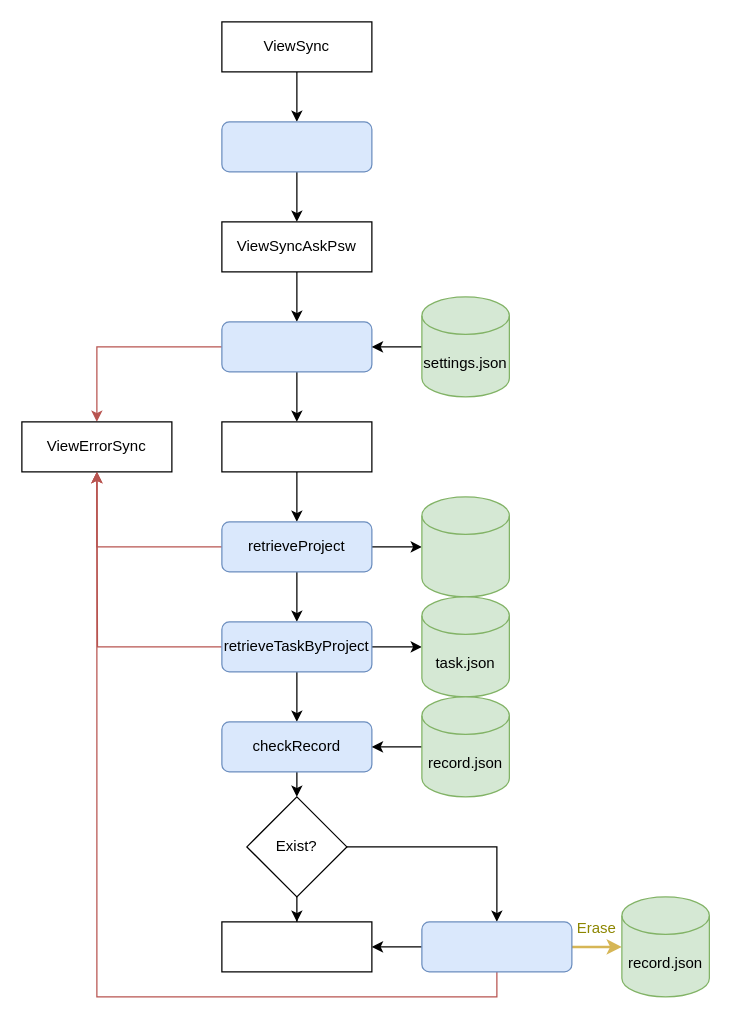
This 731x1029 diagram has some shape labels left out. Here are the shapes that lost their labels. From the top down, the centre of each, then its label:
At pixel 296 146: "askSync".
At pixel 296 346: "launchSync".
At pixel 296 446: "ViewOnGoingSync".
At pixel 465 546: "project.json".
At pixel 296 946: "ViewDoneSync".
At pixel 496 946: "sendRecord".
